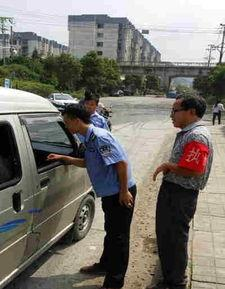bending: (46, 106, 138, 289)
up: (148, 92, 214, 289)
